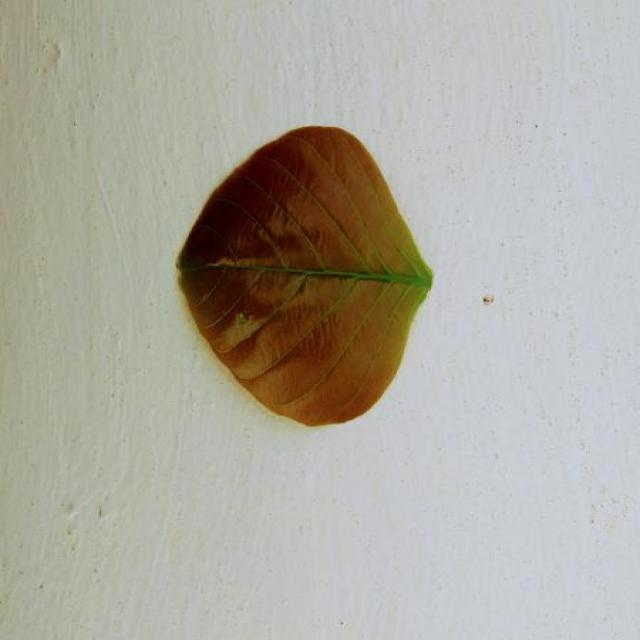honge: (178, 126, 432, 425)
leaf rust: (178, 126, 432, 425)
